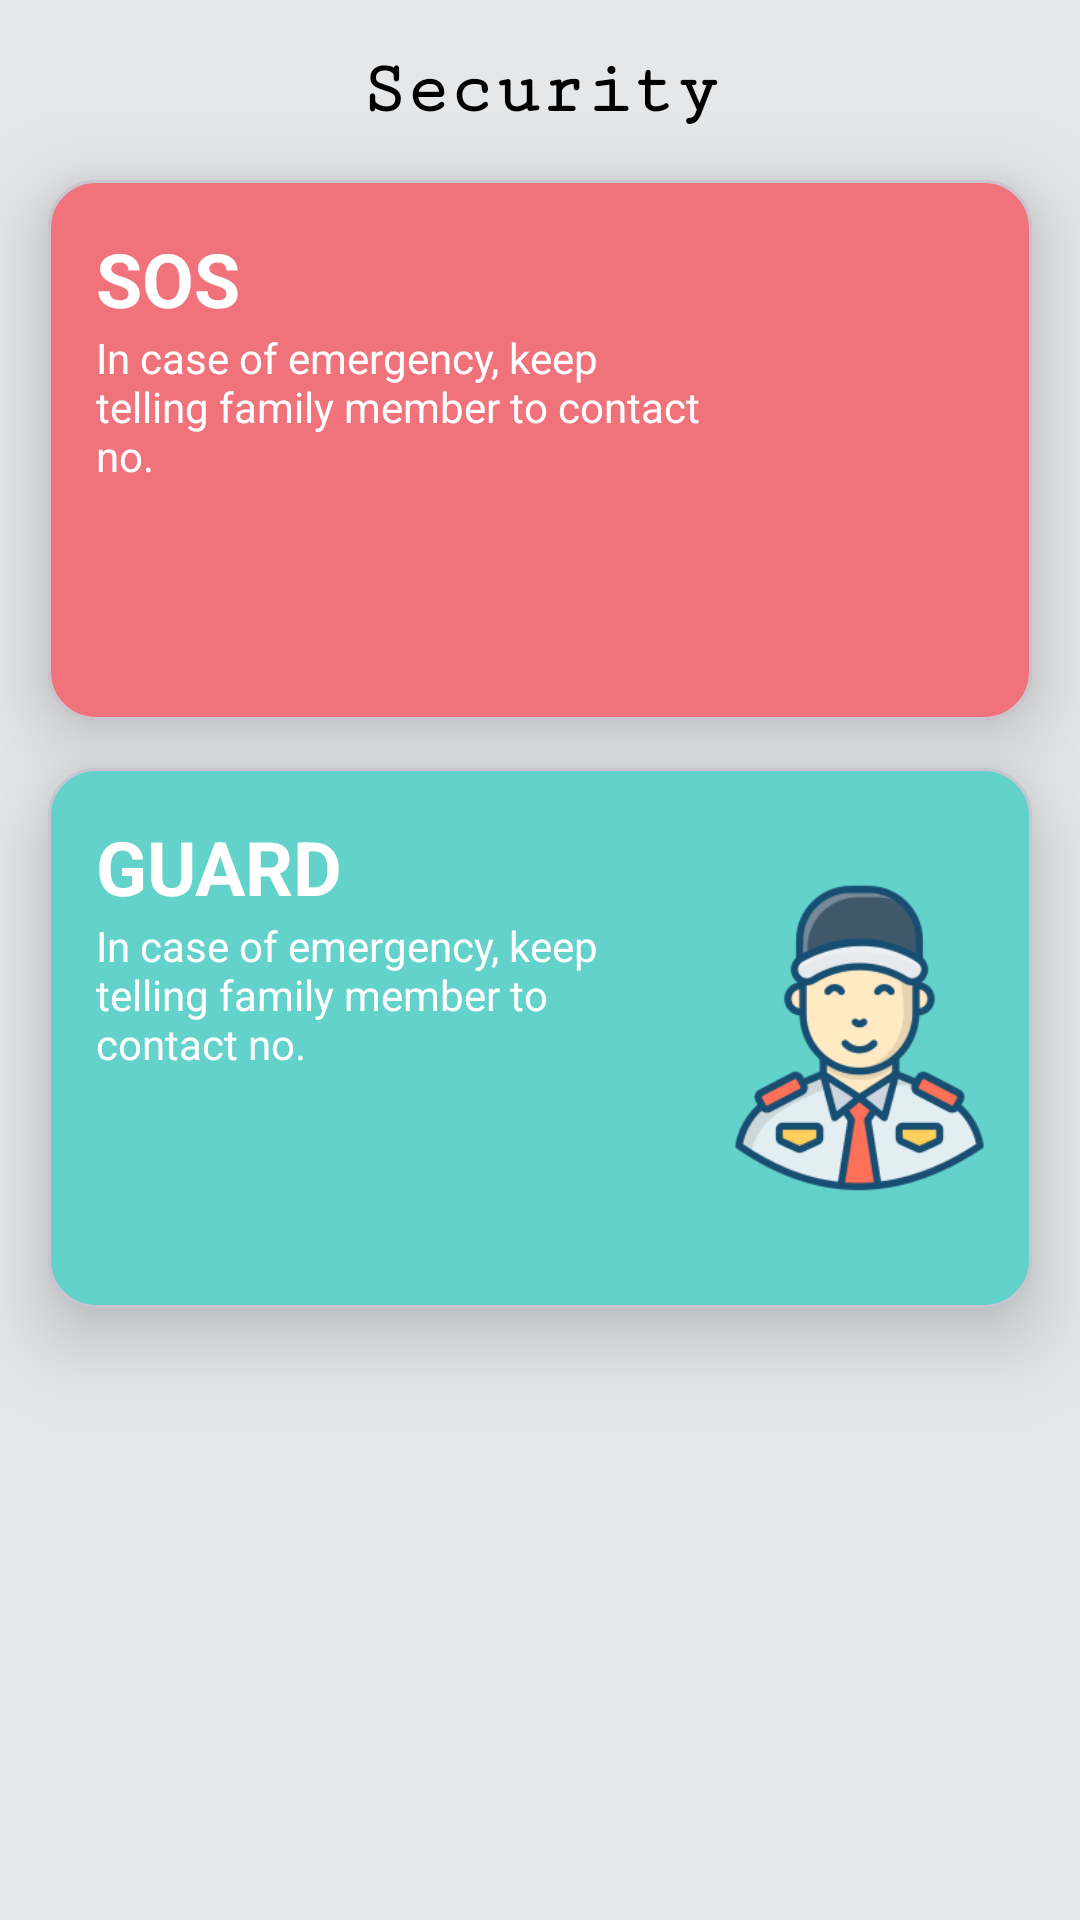

Icon bounding boxes for this 1080 × 1920 phone screenshot, format (x1, y1, x2, y2):
guard: (735, 885, 984, 1191)
